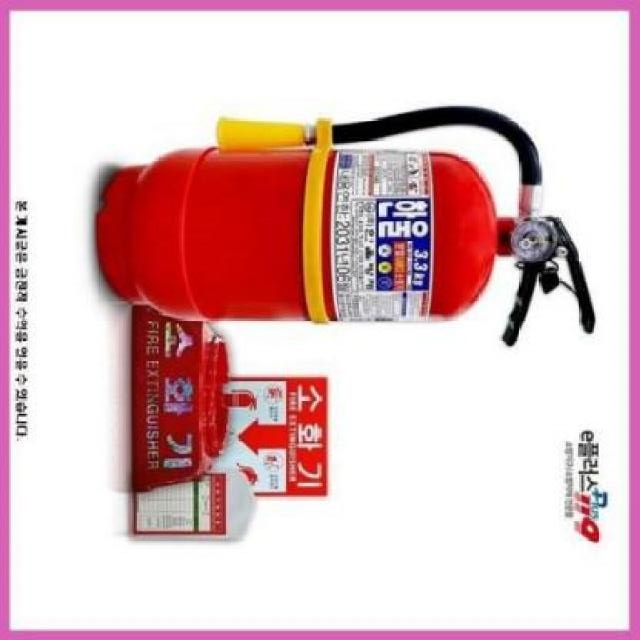fire extinguisher: (95, 106, 596, 346)
